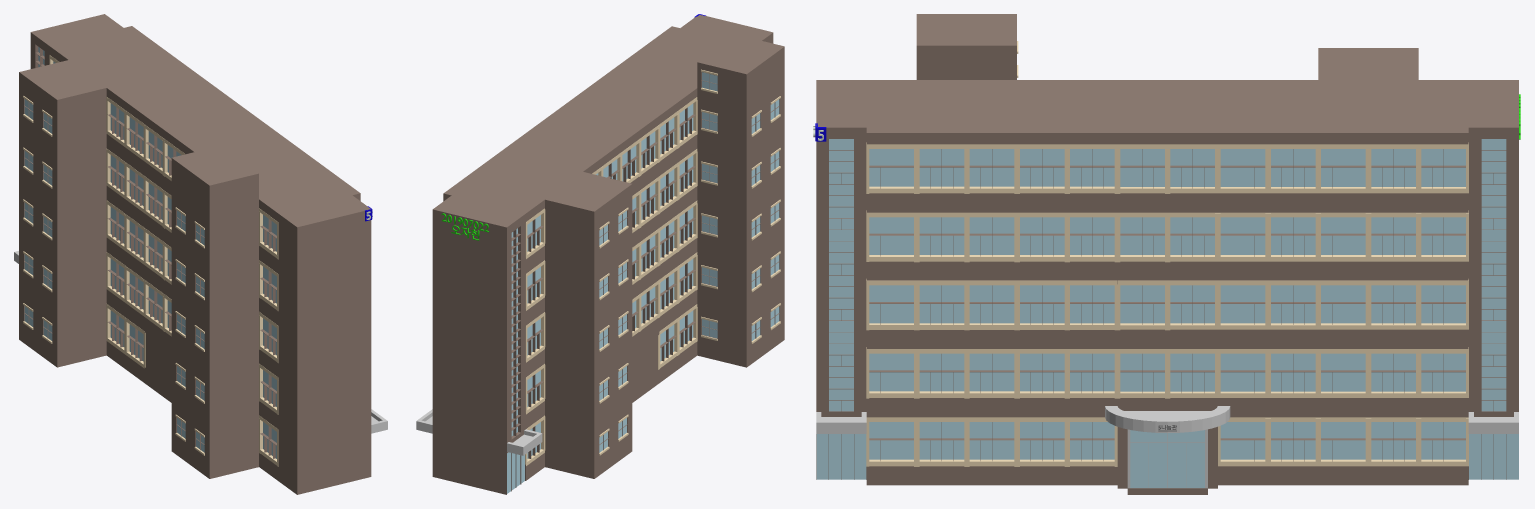
Rendered from 5building_2.glb.
3 views of the same model, side by side, from view 1: azimuth 30°, elevation 25°; view 2: azimuth 150°, elevation 25°; view 3: azimuth 270°, elevation 25° (orthographic). The views are drawn at different scales.
Parts seen in each view (by area): view 1: main, sidebar-1, Cube.007, Cube.018, Cube.067, 후면창문, sidebar-2, Cube.059, Cube.048, Cube.040; view 2: main, sidebar-2, Cube.007, Cube.018, Cube.067, 후면창문, Cube.049, Cube.048, Cube.059, sidebar-1, Cube.040, Cube.038 (+3 smaller); view 3: main, 전면창문, Cube.068, sidebar-2, sidebar-1, Cube.007, Cube.065, Cube.027, Cube.018, Cylinder, Cube.029, Cube.011 (+6 smaller).
Part boxes in pixels (x1,y1,x2,y2): main: (49,26,360,480); sidebar-1: (278,195,371,494); Cube.007: (171,145,258,478); Cube.018: (19,60,106,367); Cube.067: (49,55,278,466); 후면창문: (53,61,276,458); sidebar-2: (30,14,123,68); Cube.059: (24,99,52,340); Cube.048: (177,210,204,452); Cube.040: (175,207,204,455); main: (443,26,727,480); sidebar-2: (432,195,525,494); Cube.007: (697,34,784,367); Cube.018: (545,172,632,478); Cube.067: (525,97,697,465); 후면창문: (527,103,693,458); Cube.049: (702,72,717,338); Cube.048: (751,99,779,340); Cube.059: (599,211,626,452); sidebar-1: (680,15,773,43); Cube.040: (751,96,780,343); Cube.038: (511,228,517,436); main: (866,80,1468,485); 전면창문: (869,149,1465,459); Cube.068: (866,142,1468,466); sidebar-2: (1468,80,1518,479); sidebar-1: (816,80,866,479); Cube.007: (916,14,1016,79); Cube.065: (1481,139,1506,365); Cube.027: (829,139,853,365); Cube.018: (1318,48,1418,79); Cylinder: (1105,406,1230,432); Cube.029: (816,434,866,479); Cube.011: (1469,434,1518,479).
Size of the model in its own units: 95.6 by 170 by 282.
